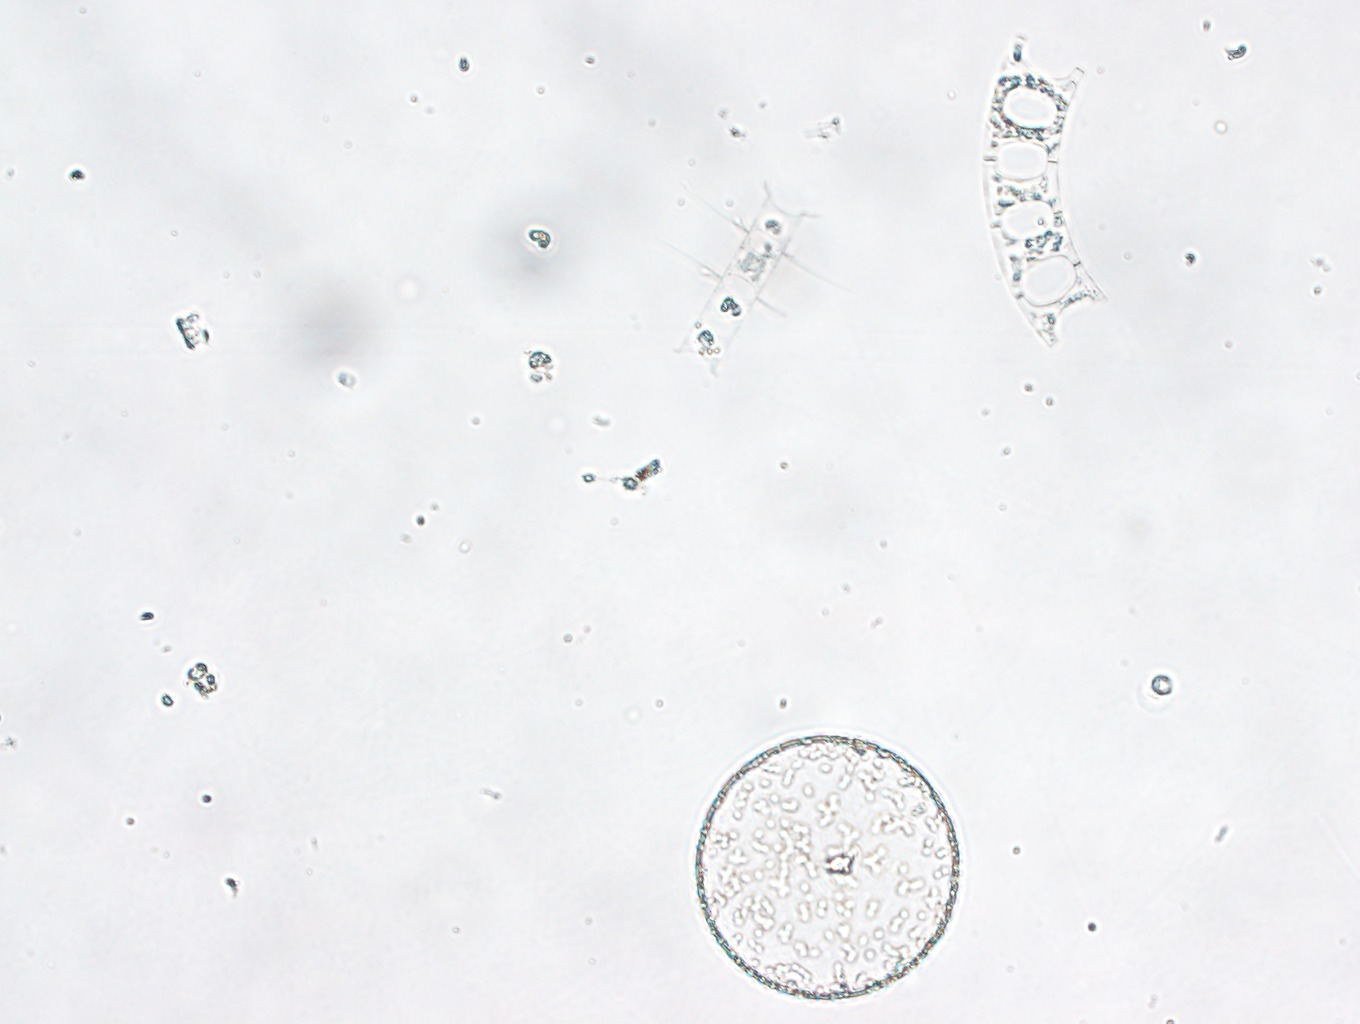chaetoceros: (656, 181, 833, 381)
coscinodiscus: (691, 734, 963, 1000)
eucampia: (980, 35, 1108, 350)
